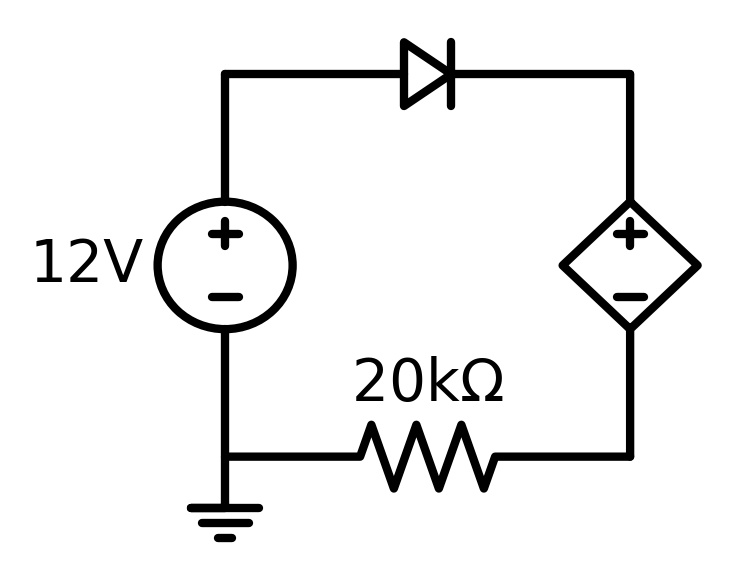diode: (370, 22, 490, 123)
ground: (182, 487, 277, 552)
resistor: (343, 409, 509, 504)
sourcedc: (149, 186, 304, 348)
sourcevc: (544, 192, 706, 335)
